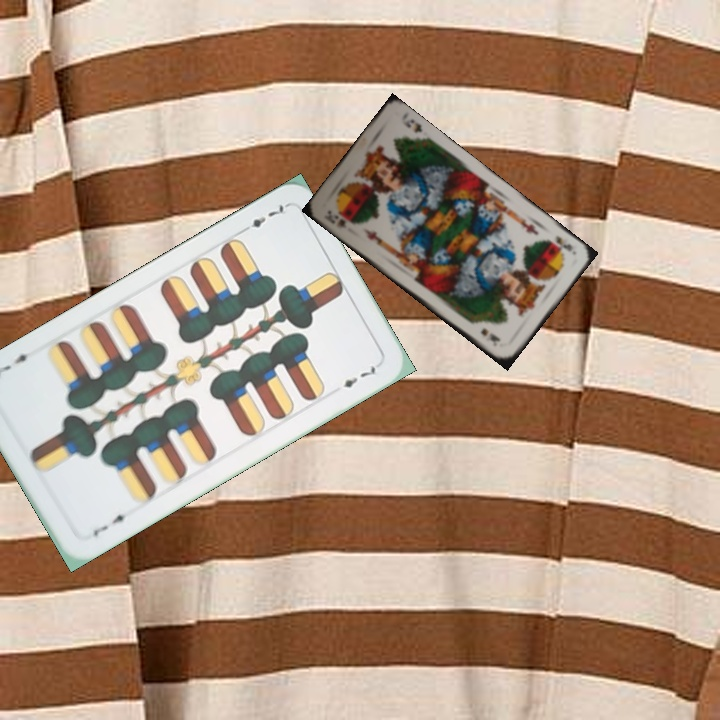E7: (88, 510, 134, 539), (248, 200, 290, 231)
SK: (543, 231, 575, 254), (320, 206, 349, 231)
